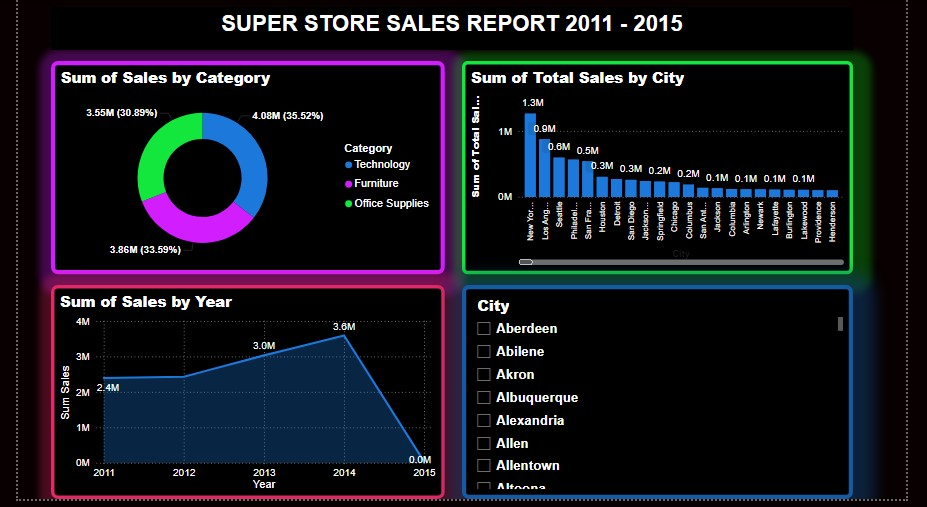

The page's visual inventory and layout, read from the dashboard file:
{"tool":"powerbi","page":{"name":"Page 1","canvas":[1280,720],"ordinal":0},"visuals":[{"type":"donutChart","title":"Sum of Sales by Category","fields":{"Y":["Orders.Sum Sales"],"Category":["Orders.Category"]},"box":[47.5,89.3,567.4,306.7],"z":0},{"type":"clusteredColumnChart","fields":{"Y":["Sum(Orders.Total Sales)"],"Category":["Orders.City"]},"box":[639.4,89.3,563,306.7],"z":1000},{"type":"lineChart","title":"Sum of Sales by Year","fields":{"Y":["Orders.Sum Sales"],"Category":["Orders.Ship Date.Variation.Date Hierarchy.Year","Orders.Ship Date.Variation.Date Hierarchy.Quarter","Orders.Ship Date.Variation.Date Hierarchy.Month","Orders.Ship Date.Variation.Date Hierarchy.Day"]},"box":[47.5,411.8,567.4,308.2],"z":2000},{"type":"slicer","fields":{"Values":["Orders.City"]},"box":[639.4,411.8,563,308.2],"z":3000},{"type":"textbox","box":[47.5,11.5,1154.9,61.9],"z":4000}]}

Visuals, with their boxes in screenshot pixels (x1, y1, x2, y2), scaled from the page's 1280x720 canvas onto the 927x507 screenshot:
"Sum of Sales by Category" donutChart: bbox=(34, 63, 445, 279)
clusteredColumnChart - Sum(Orders.Total Sales) x Orders.City: bbox=(463, 63, 871, 279)
"Sum of Sales by Year" lineChart: bbox=(34, 290, 445, 506)
slicer - Orders.City: bbox=(463, 290, 871, 506)
textbox: bbox=(34, 8, 871, 52)
